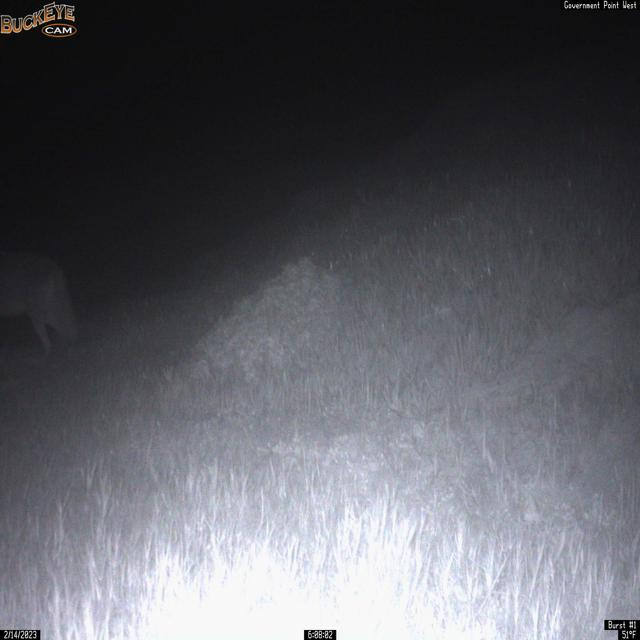coyote: (0, 247, 81, 361)
